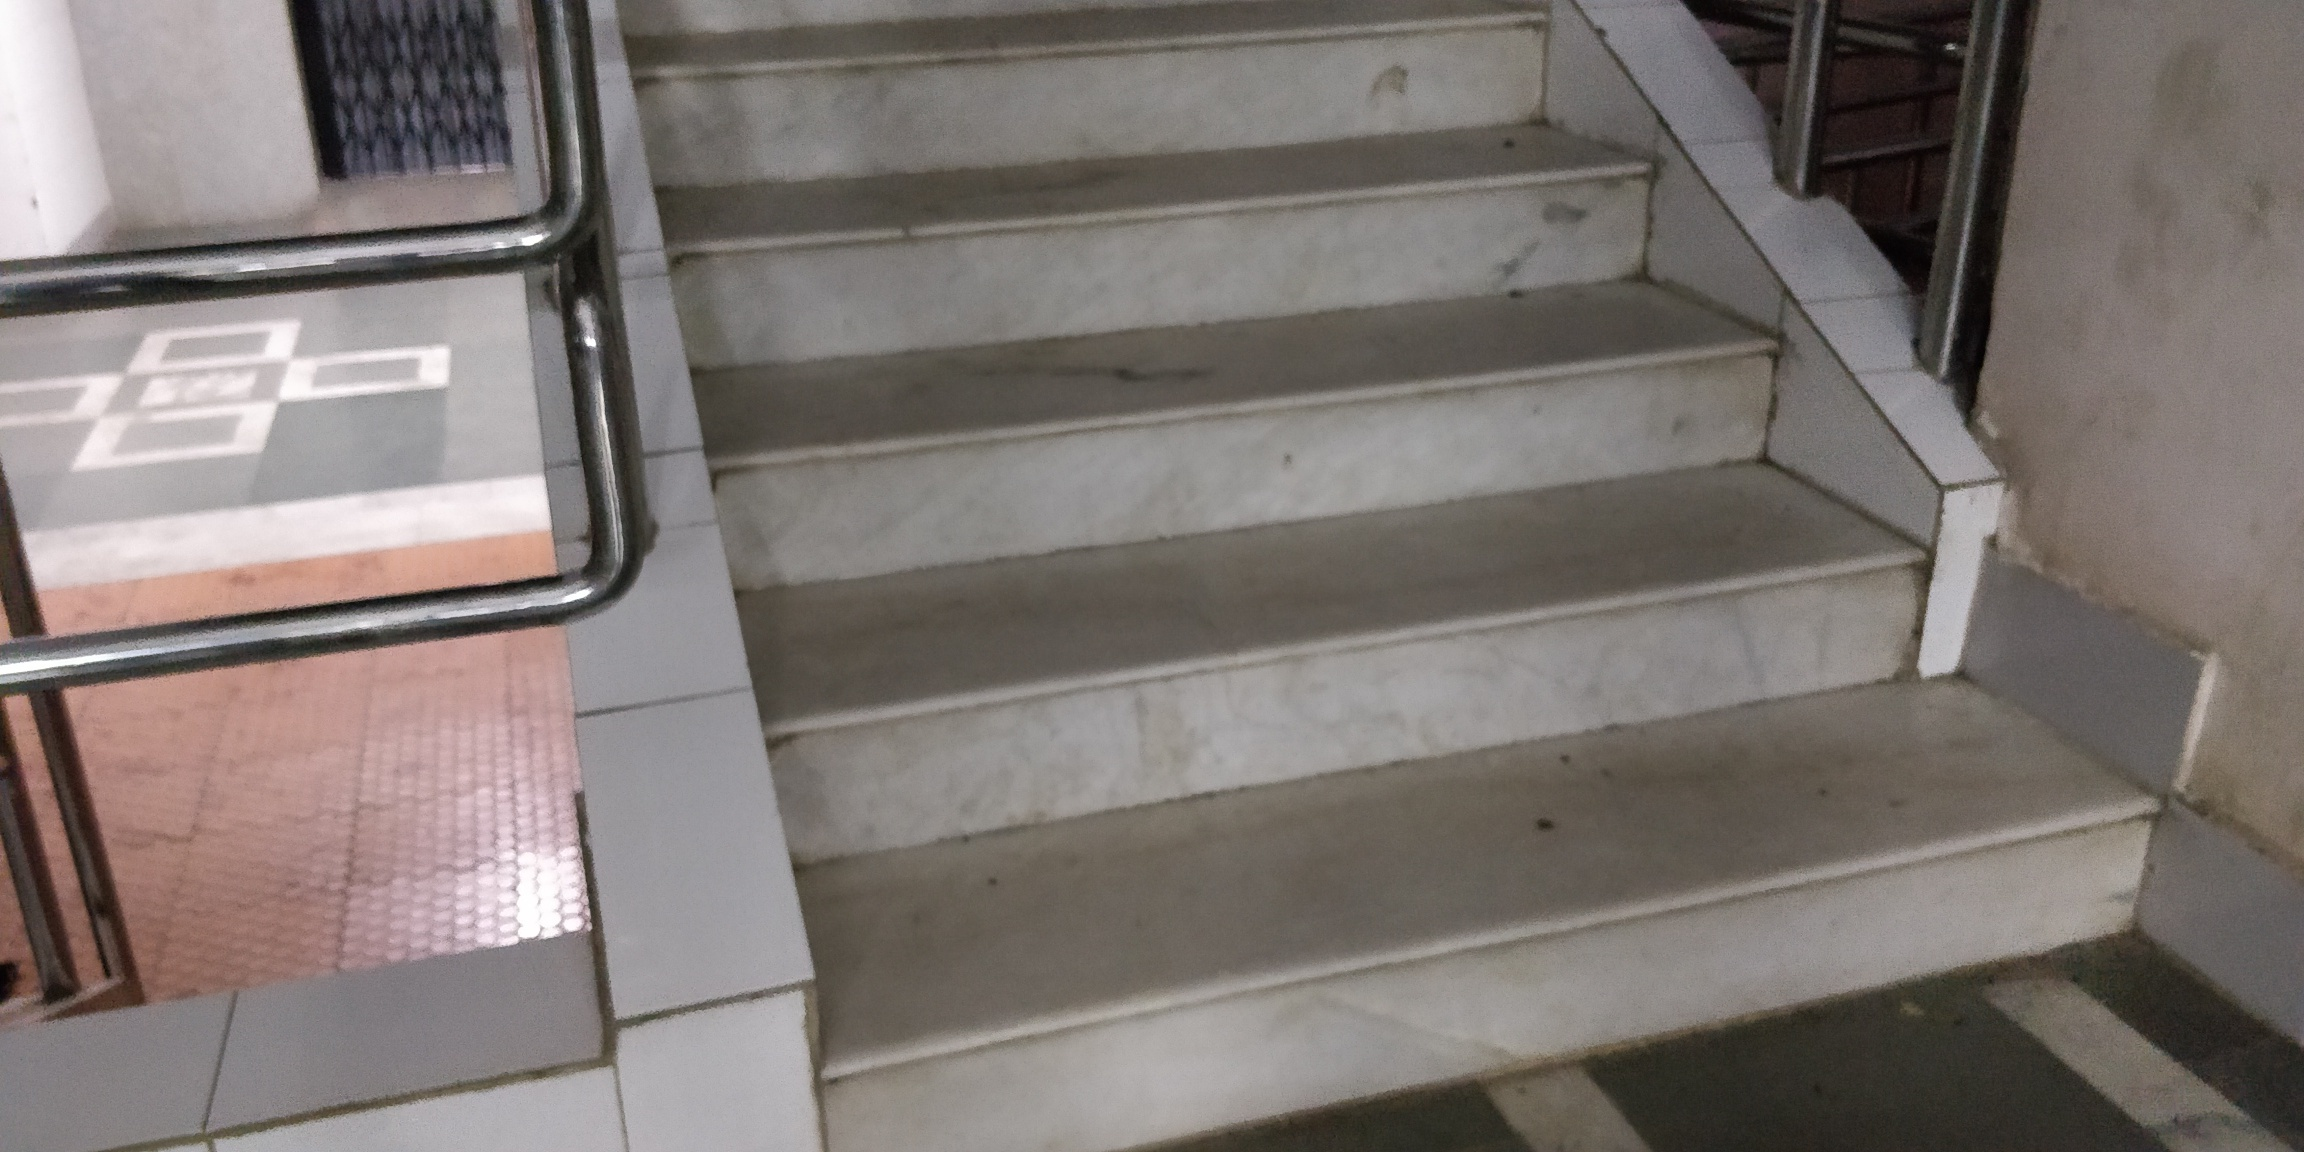stairs_up: (613, 53, 2170, 1055)
